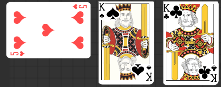5H: (72, 4, 88, 11), (10, 50, 26, 57)
